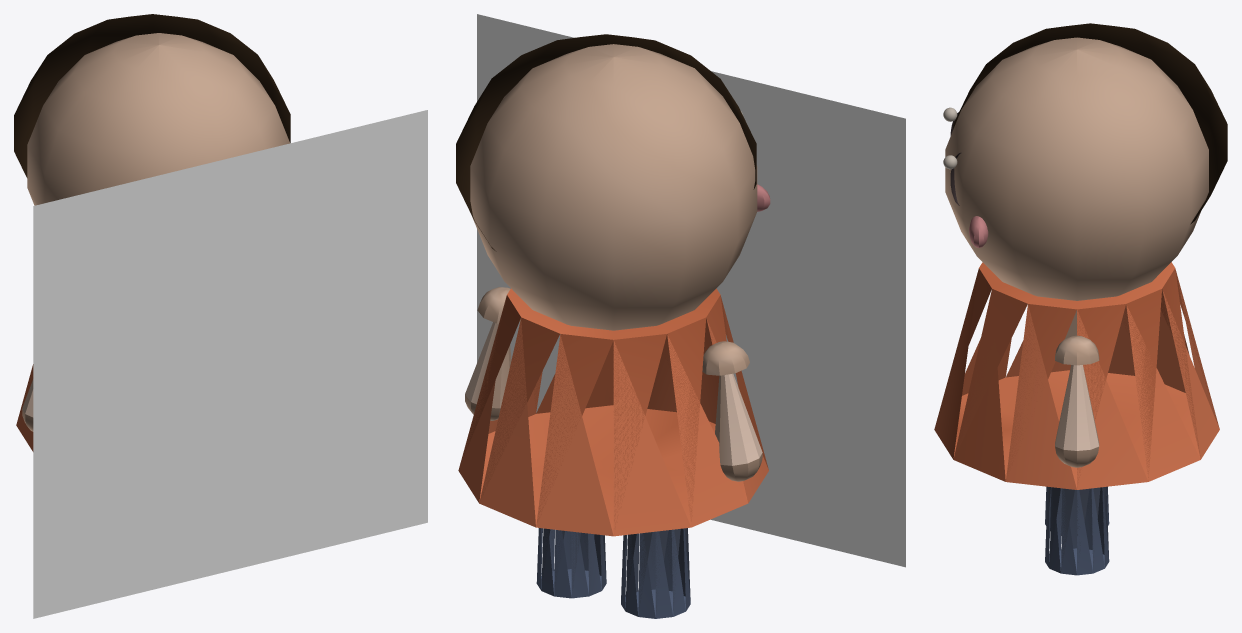
Rendered from p02d3dbe5.glb.
3 views of the same model, side by side, from view 1: azimuth 30°, elevation 25°; view 2: azimuth 150°, elevation 25°; view 3: azimuth 270°, elevation 25° (orthographic). The views are drawn at different scales.
Visible parts, largest first — view 1: pet_p02d3dbe5; view 2: pet_p02d3dbe5; view 3: pet_p02d3dbe5.
Part boxes in pixels (x1=…): pet_p02d3dbe5: x1=14, y1=14, x2=427, y2=618; pet_p02d3dbe5: x1=456, y1=14, x2=905, y2=618; pet_p02d3dbe5: x1=934, y1=23, x2=1227, y2=575.
Size of the model in its own units: 0.51 by 0.625 by 0.3287.
